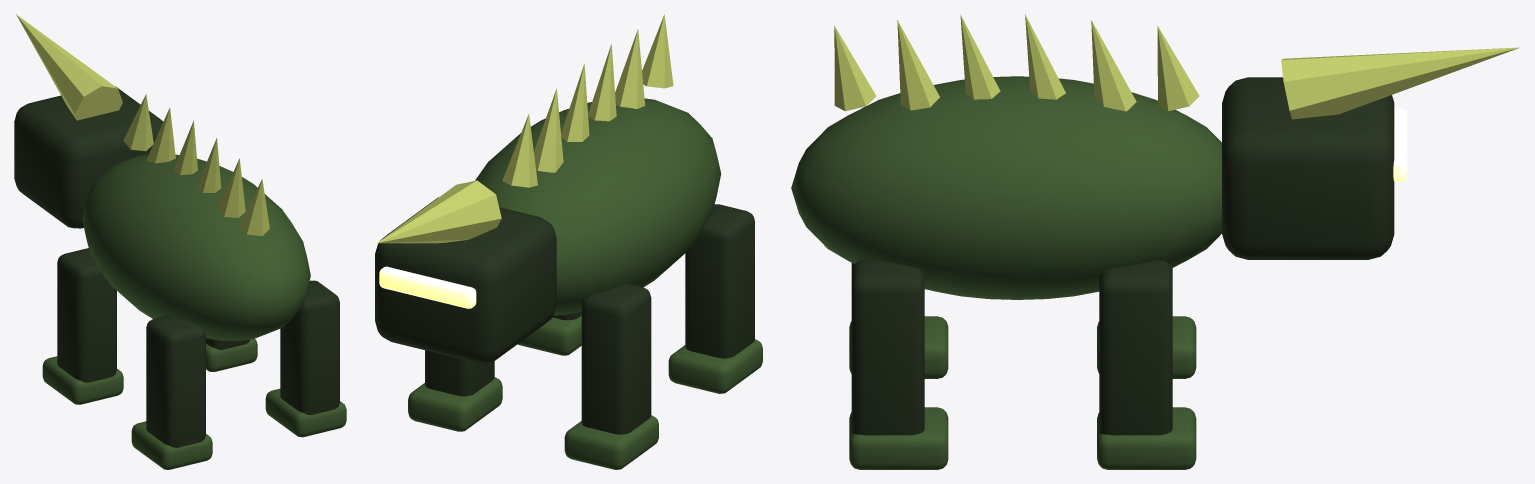
Rendered from enemy_thornback.glb.
The picture shows the model from 3 angles, left to right: view 1: azimuth 30°, elevation 25°; view 2: azimuth 150°, elevation 25°; view 3: azimuth 270°, elevation 25°; orthographic projection. The views are drawn at different scales.
Visible parts, largest first — view 1: Torso, Head, LegBL, LegFL, LegBR, Horn, LegBRFoot, LegFLFoot, LegBLFoot, LegFRFoot, Thorn0, Thorn5 (+4 smaller); view 2: Torso, Head, LegFL, LegBL, Horn, LegBLFoot, LegFLFoot, LegFRFoot, LegFR, Eye, LegBRFoot, Thorn1 (+5 smaller); view 3: Torso, Head, LegBR, LegFR, Horn, LegBRFoot, LegFRFoot, Thorn1, Thorn5, Thorn0, Thorn4, LegBLFoot (+4 smaller).
Boxes of the visible parts, left/top/right/bottom form: Torso: left=82, top=154, right=310, bottom=340; Head: left=14, top=86, right=163, bottom=228; LegBL: left=146, top=315, right=205, bottom=447; LegFL: left=57, top=248, right=116, bottom=382; LegBR: left=280, top=280, right=339, bottom=415; Horn: left=16, top=14, right=122, bottom=120; LegBRFoot: left=265, top=388, right=346, bottom=437; LegFLFoot: left=42, top=356, right=123, bottom=404; LegBLFoot: left=131, top=421, right=212, bottom=469; LegFRFoot: left=206, top=338, right=257, bottom=371; Thorn0: left=123, top=94, right=153, bottom=151; Thorn5: left=239, top=179, right=269, bottom=236; Torso: left=475, top=98, right=721, bottom=315; Head: left=375, top=197, right=556, bottom=363; LegFL: left=581, top=283, right=651, bottom=434; LegBL: left=685, top=204, right=754, bottom=358; Horn: left=377, top=180, right=501, bottom=243; LegBLFoot: left=668, top=339, right=762, bottom=393; LegFLFoot: left=564, top=415, right=658, bottom=469; LegFRFoot: left=408, top=377, right=502, bottom=431; LegFR: left=425, top=350, right=494, bottom=396; Eye: left=379, top=266, right=476, bottom=308; LegBRFoot: left=517, top=315, right=581, bottom=355; Thorn1: left=534, top=88, right=563, bottom=172; Torso: left=791, top=76, right=1221, bottom=299; Head: left=1222, top=77, right=1394, bottom=259; LegBR: left=851, top=259, right=924, bottom=435; LegFR: left=1099, top=260, right=1172, bottom=435; Horn: left=1281, top=47, right=1519, bottom=119; LegBRFoot: left=849, top=407, right=948, bottom=469; LegFRFoot: left=1097, top=407, right=1196, bottom=469; Thorn1: left=1091, top=20, right=1136, bottom=111; Thorn5: left=834, top=26, right=876, bottom=111; Thorn0: left=1157, top=26, right=1199, bottom=111; Thorn4: left=897, top=20, right=939, bottom=110; LegBLFoot: left=849, top=316, right=948, bottom=378.
Size of the model in its own units: 1.38 by 2.03 by 3.39.
